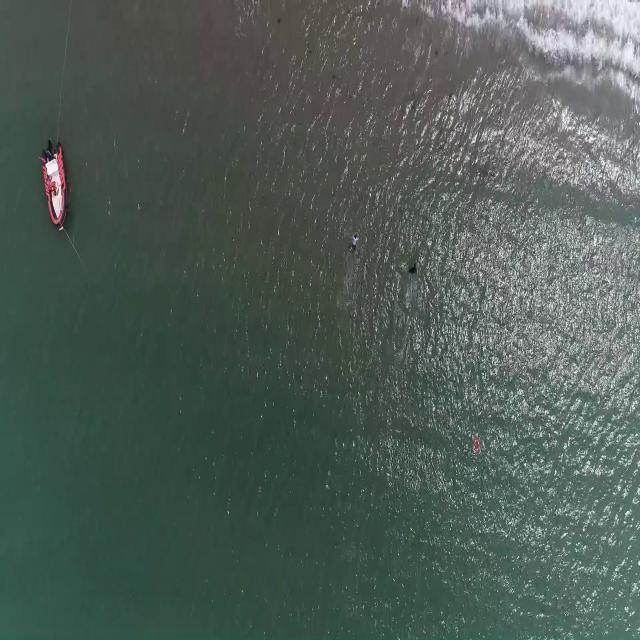boat: (39, 141, 69, 230)
life_buoy: (473, 438, 481, 453)
person: (349, 227, 362, 255), (409, 258, 418, 278)
